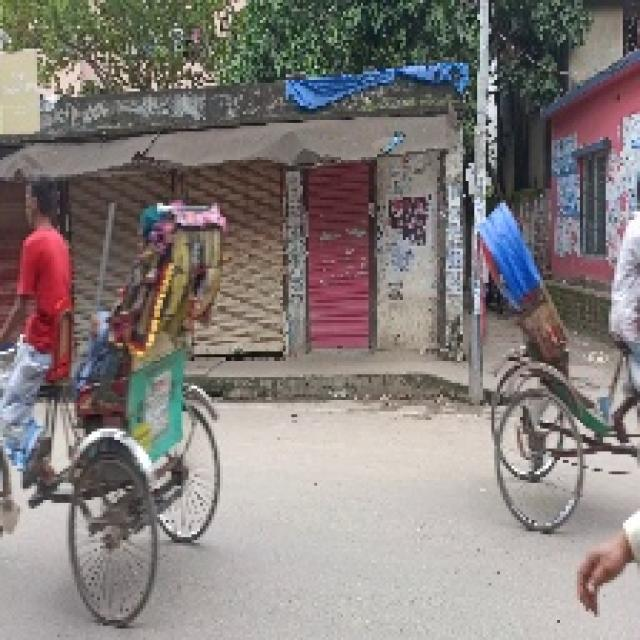rickshaw: (3, 177, 232, 605), (469, 158, 637, 533)
